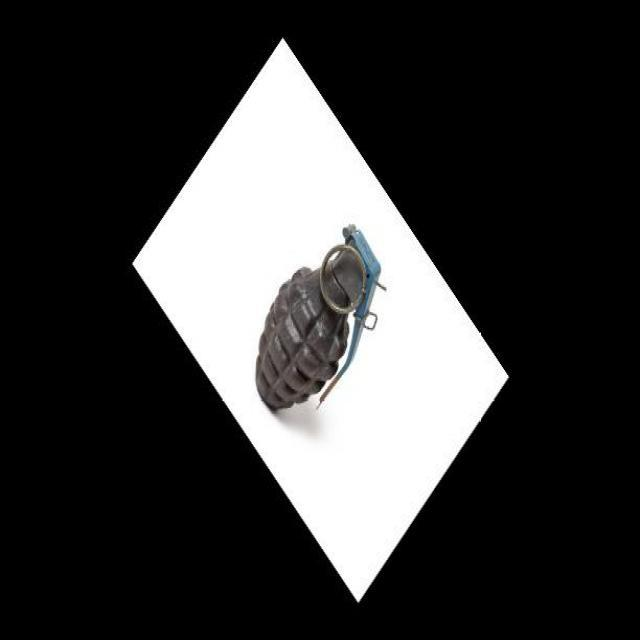grenade: (246, 224, 394, 420)
